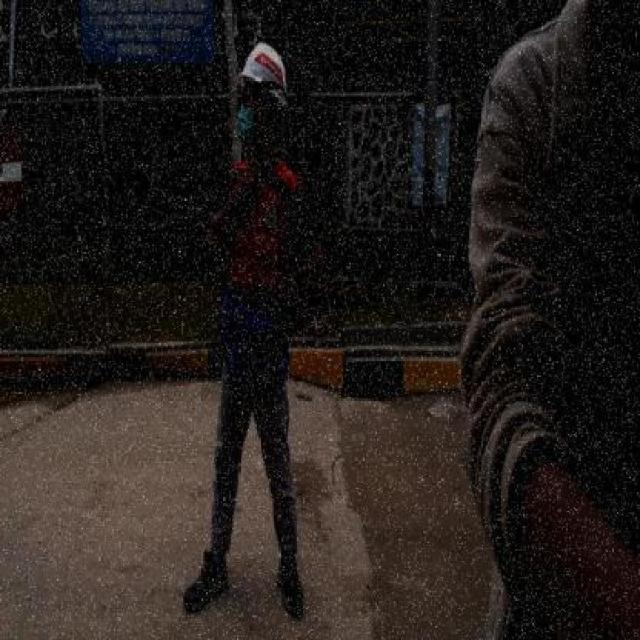Boots: (176, 545, 238, 612), (267, 560, 316, 617)
Helmet: (235, 37, 297, 117)
Mask: (234, 100, 266, 151)
